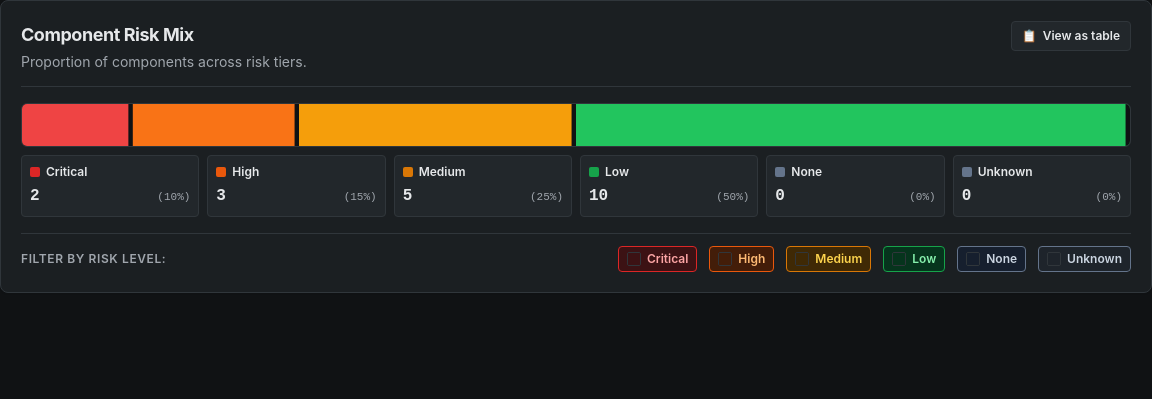
Test: RiskMixBar Component › supports ChartCard table view toggle with full tabular alternative
// Toggle to table view
Step 1. Click the button "📋 View as table" → (1071,36), box [1011,21,1131,51]
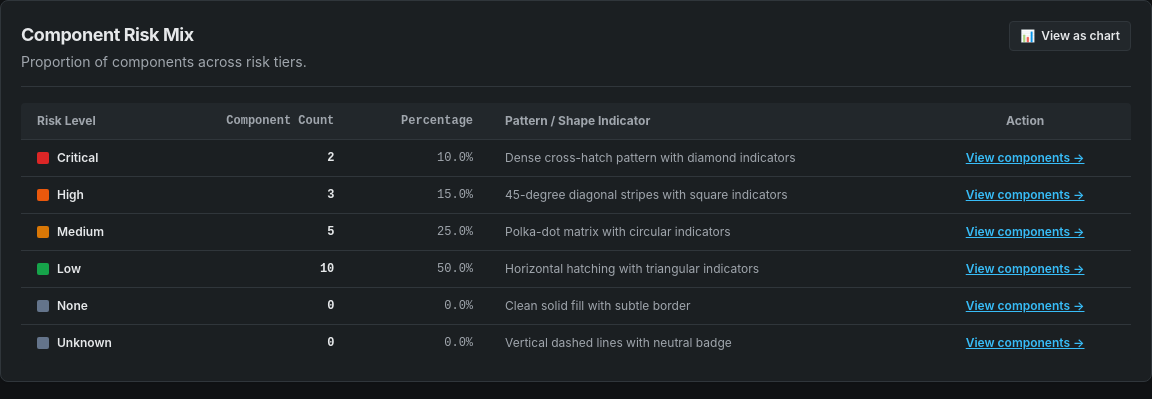
Expected: the table is shown
Expected: the column heading "Pattern / Shape Indicator" is shown, [489,103,919,139]
// Toggle back to visual chart
Step 2. Click the button "📊 View as chart" → (1070,36), box [1009,21,1131,51]
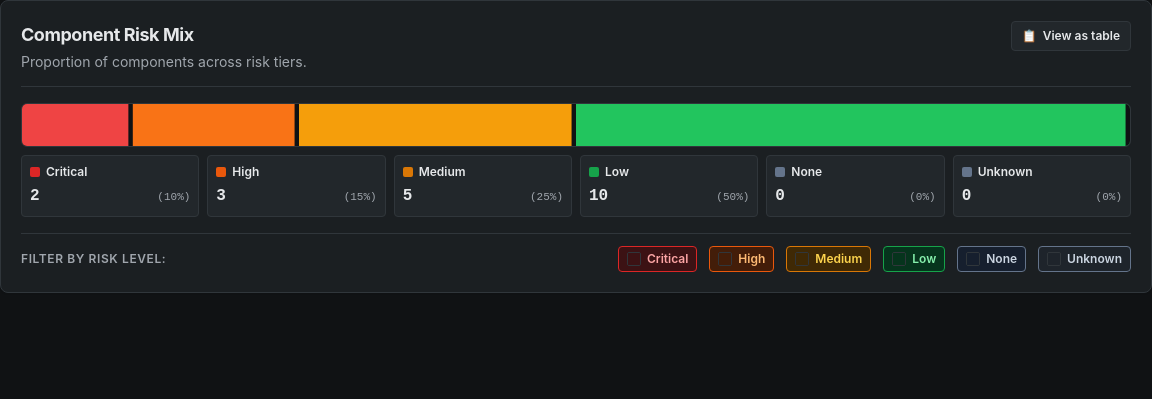
Expected: the table is gone
